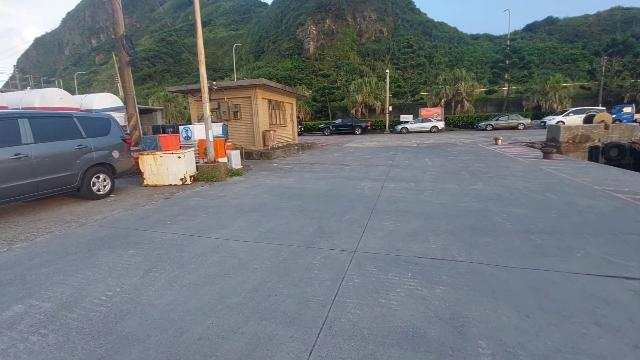pollute: (139, 147, 197, 185), (180, 124, 203, 163), (141, 134, 180, 152), (226, 149, 242, 170), (211, 123, 228, 139), (215, 139, 224, 161), (200, 139, 207, 162), (226, 141, 231, 149)
